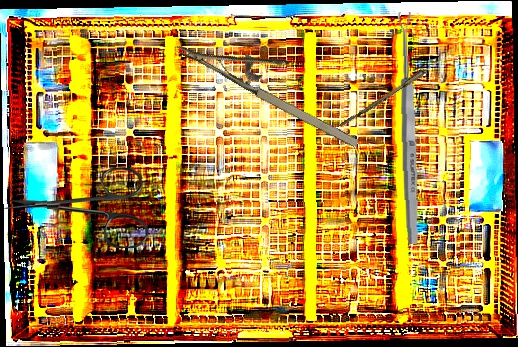Iris Scissors: (3, 165, 149, 249)
Needle Holder: (173, 9, 376, 153)
Surgical Spoon: (339, 48, 456, 130), (396, 11, 422, 245)
